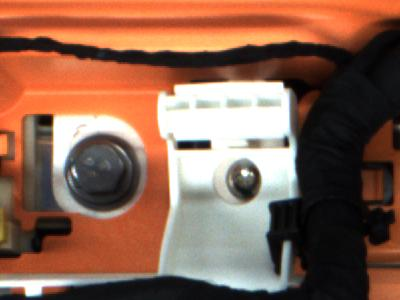nut_b: (62, 128, 140, 211)
